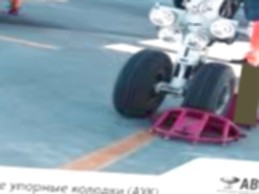chock: (146, 105, 251, 150), (222, 93, 259, 132)
wheel: (108, 45, 178, 121), (180, 59, 240, 117)
